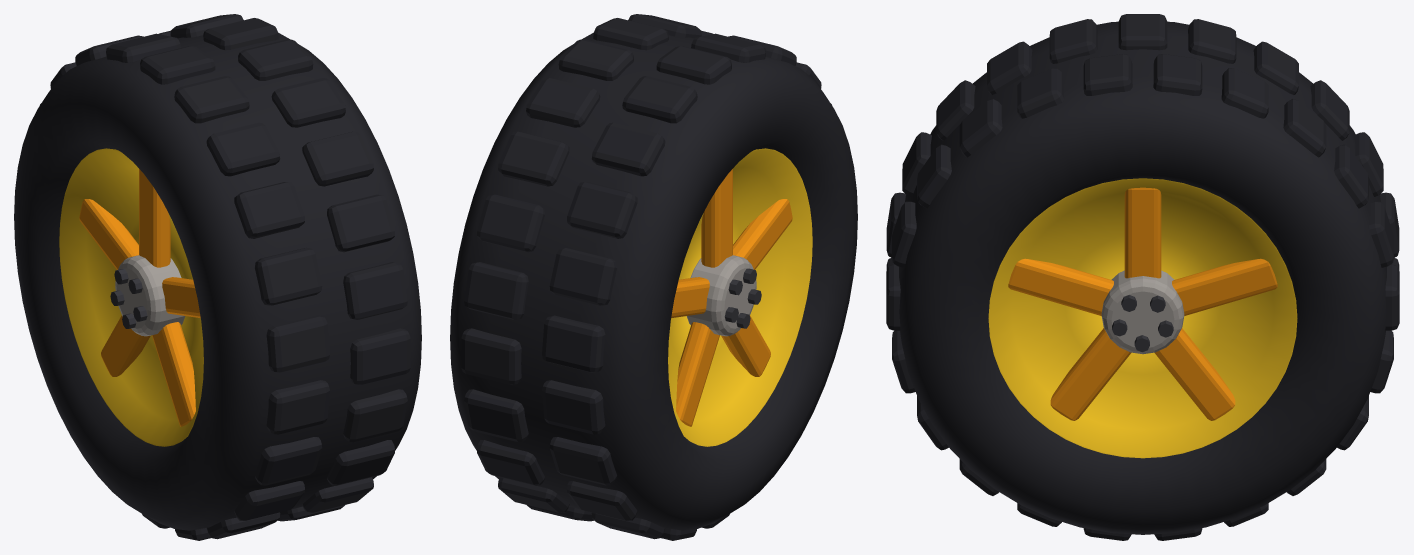
Rendered from wheel.glb.
The picture shows the model from 3 angles, left to right: view 1: azimuth 30°, elevation 25°; view 2: azimuth 150°, elevation 25°; view 3: azimuth 270°, elevation 25°; orthographic projection.
Visible parts, largest first — view 1: Tyre, Rim, Hub, Tyre_block.008, Tyre_block.006, Tyre_block.007, Tyre_block.009, Tyre_block.010, Tyre_block.005, Tyre_block.004, Tyre_block.011, Rim_spoke.002 (+19 smaller); view 2: Tyre, Rim, Hub, Tyre_block.036, Tyre_block.038, Tyre_block.037, Tyre_block.035, Tyre_block.034, Tyre_block.039, Tyre_block.040, Tyre_block.033, Rim_spoke.003 (+19 smaller); view 3: Tyre, Rim.001, Hub.001, Rim_spoke.006, Rim_spoke.009, Rim_spoke.005, Rim_spoke.007, Rim_spoke.008, Tyre_block.001, Tyre_block.043, Tyre_block.003, Tyre_block.041 (+19 smaller).
Part boxes in pixels (left/top/right/bottom): Tyre: left=14, top=32, right=421, bottom=530; Rim: left=59, top=148, right=203, bottom=446; Hub: left=115, top=255, right=185, bottom=336; Tyre_block.008: left=255, top=247, right=322, bottom=305; Tyre_block.006: left=234, top=182, right=304, bottom=238; Tyre_block.007: left=327, top=194, right=394, bottom=252; Tyre_block.009: left=343, top=262, right=407, bottom=319; Tyre_block.010: left=266, top=315, right=329, bottom=372; Tyre_block.005: left=302, top=131, right=373, bottom=186; Tyre_block.004: left=206, top=122, right=280, bottom=176; Tyre_block.011: left=350, top=328, right=410, bottom=384; Rim_spoke.002: left=152, top=322, right=195, bottom=426; Tyre: left=450, top=32, right=857, bottom=530; Rim: left=668, top=148, right=812, bottom=446; Hub: left=686, top=255, right=756, bottom=336; Tyre_block.036: left=549, top=247, right=616, bottom=305; Tyre_block.038: left=567, top=182, right=637, bottom=238; Tyre_block.037: left=477, top=194, right=544, bottom=252; Tyre_block.035: left=464, top=262, right=528, bottom=319; Tyre_block.034: left=542, top=315, right=605, bottom=372; Tyre_block.039: left=498, top=131, right=569, bottom=186; Tyre_block.040: left=591, top=122, right=665, bottom=176; Tyre_block.033: left=461, top=328, right=521, bottom=384; Rim_spoke.003: left=676, top=322, right=719, bottom=426; Tyre: left=899, top=21, right=1386, bottom=534; Rim.001: left=988, top=178, right=1297, bottom=458; Hub.001: left=1101, top=270, right=1184, bottom=354; Rim_spoke.006: left=1008, top=258, right=1113, bottom=315; Rim_spoke.009: left=1172, top=258, right=1277, bottom=315; Rim_spoke.005: left=1124, top=187, right=1161, bottom=278; Rim_spoke.007: left=1050, top=328, right=1131, bottom=420; Rim_spoke.008: left=1154, top=328, right=1235, bottom=420; Tyre_block.001: left=1083, top=54, right=1132, bottom=95; Tyre_block.043: left=1153, top=54, right=1202, bottom=95; Tyre_block.003: left=1017, top=68, right=1064, bottom=118; Tyre_block.041: left=1221, top=68, right=1268, bottom=118.
Bounding box in the file's own units: 0.4692 × 1.05 × 1.05.
